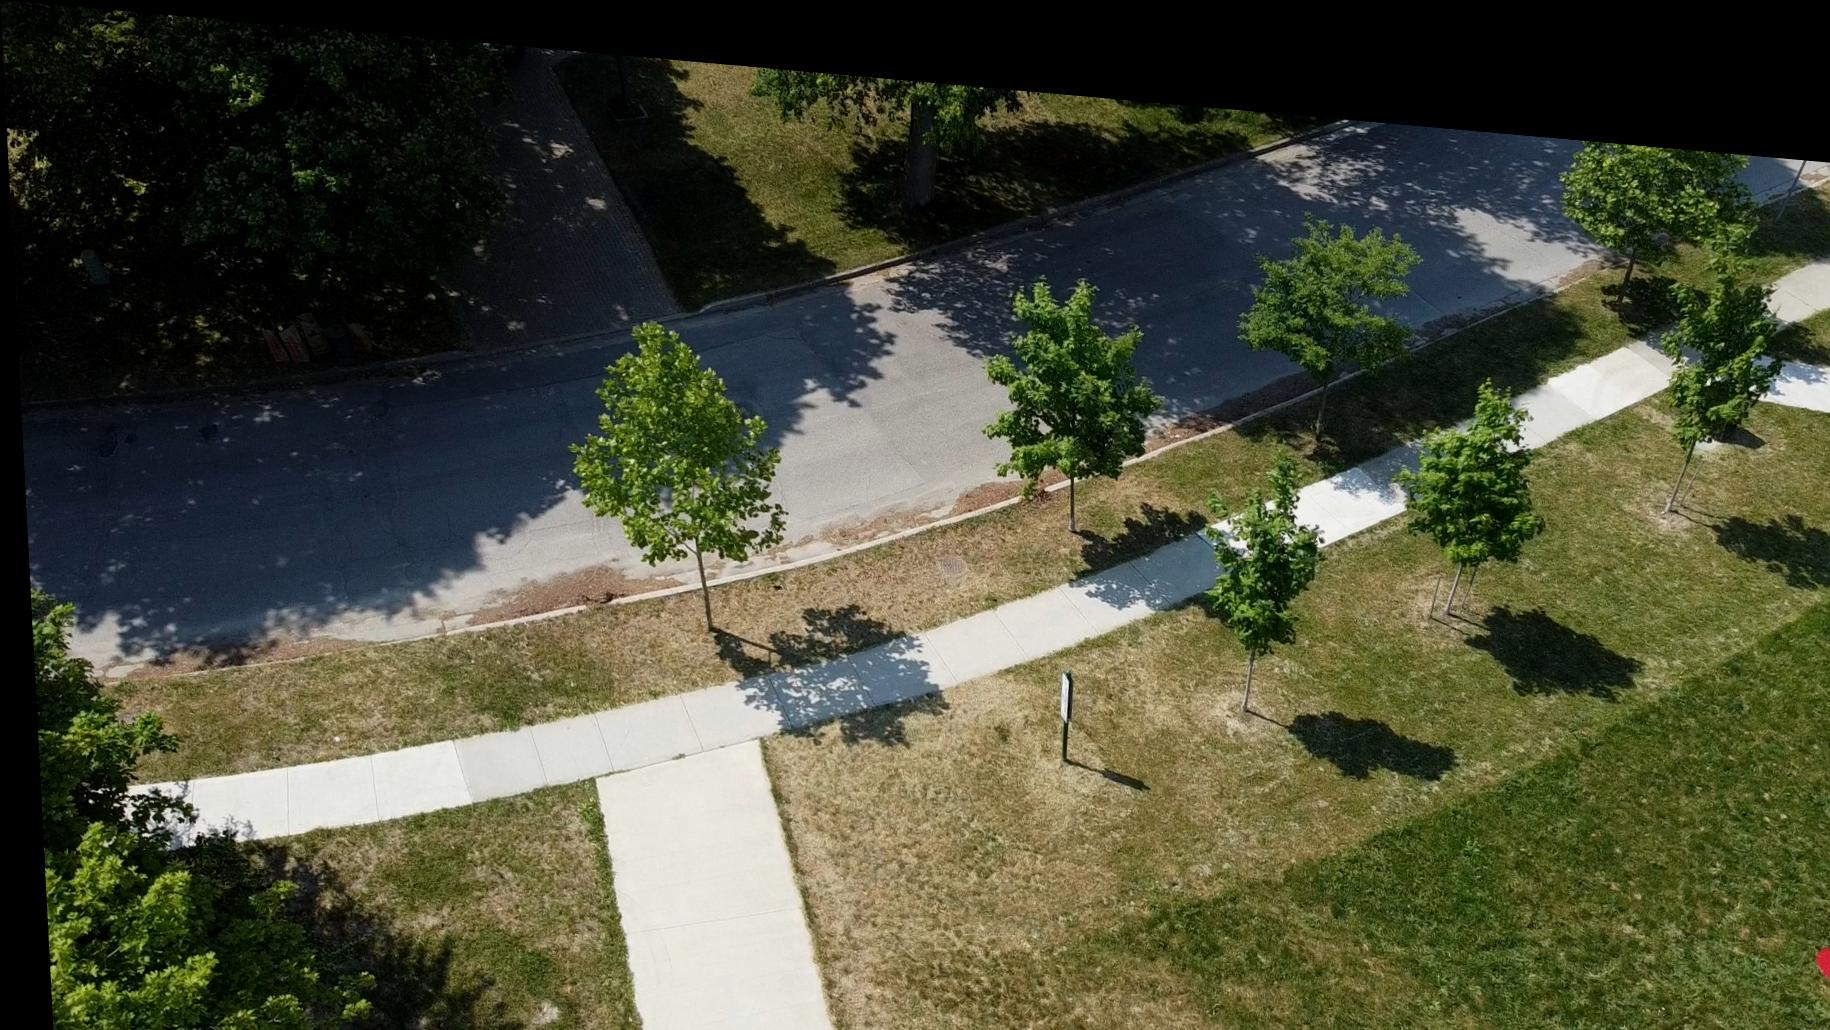Red: (1805, 912, 1830, 956)
